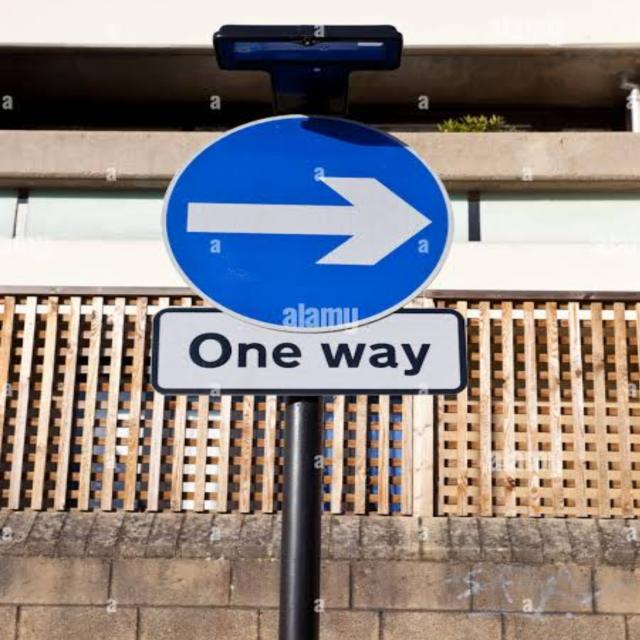Turn Right: (168, 107, 457, 336)
